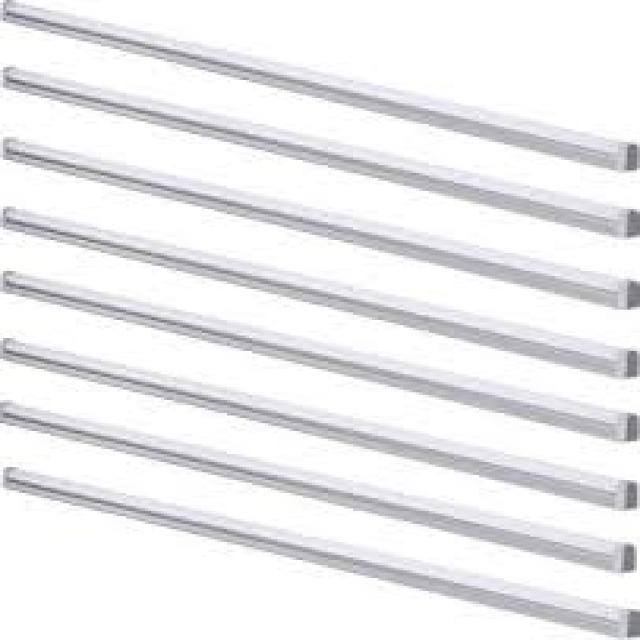tubelight_off: (0, 127, 640, 321), (0, 390, 640, 582), (3, 63, 640, 255), (0, 262, 640, 453), (2, 200, 640, 390), (2, 0, 640, 183), (0, 465, 640, 640)
